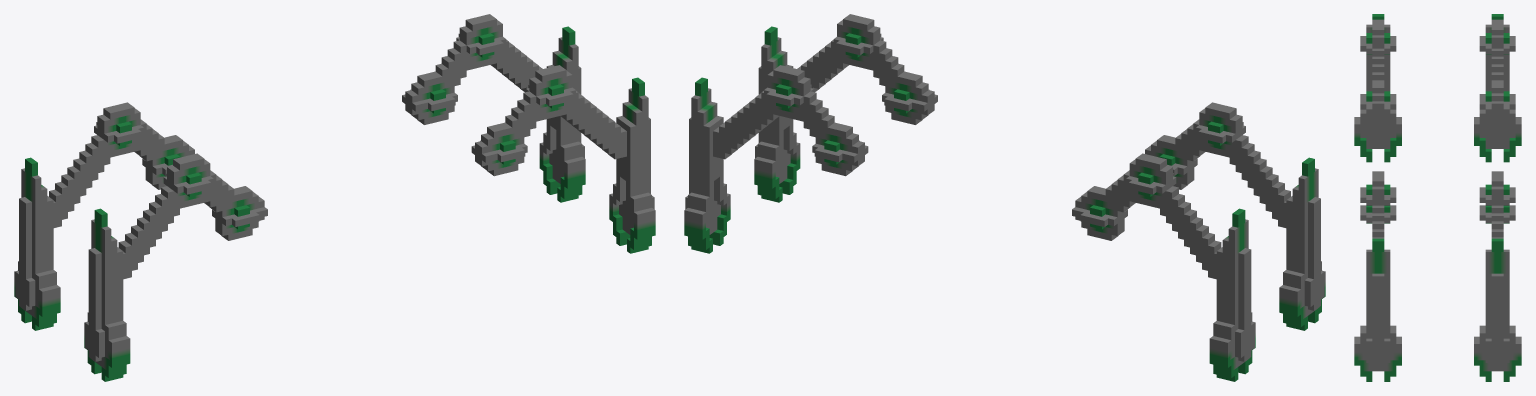
File: Enemy-8-DogLegsEs.fbx
3 views of the same model, side by side, from view 1: azimuth 30°, elevation 25°; view 2: azimuth 150°, elevation 25°; view 3: azimuth 270°, elevation 25° (orthographic). The views are drawn at different scales.
Parts seen in each view (by area): view 1: DogLegsEs; view 2: DogLegsEs; view 3: DogLegsEs.
Boxes of the visible parts, left/top/right/bottom form: DogLegsEs: left=14, top=14, right=655, bottom=381; DogLegsEs: left=684, top=14, right=1325, bottom=381; DogLegsEs: left=1354, top=14, right=1521, bottom=381.
Size of the model in its own units: 92 by 31 by 28.
Materials: 1 (1 with a texture image).
